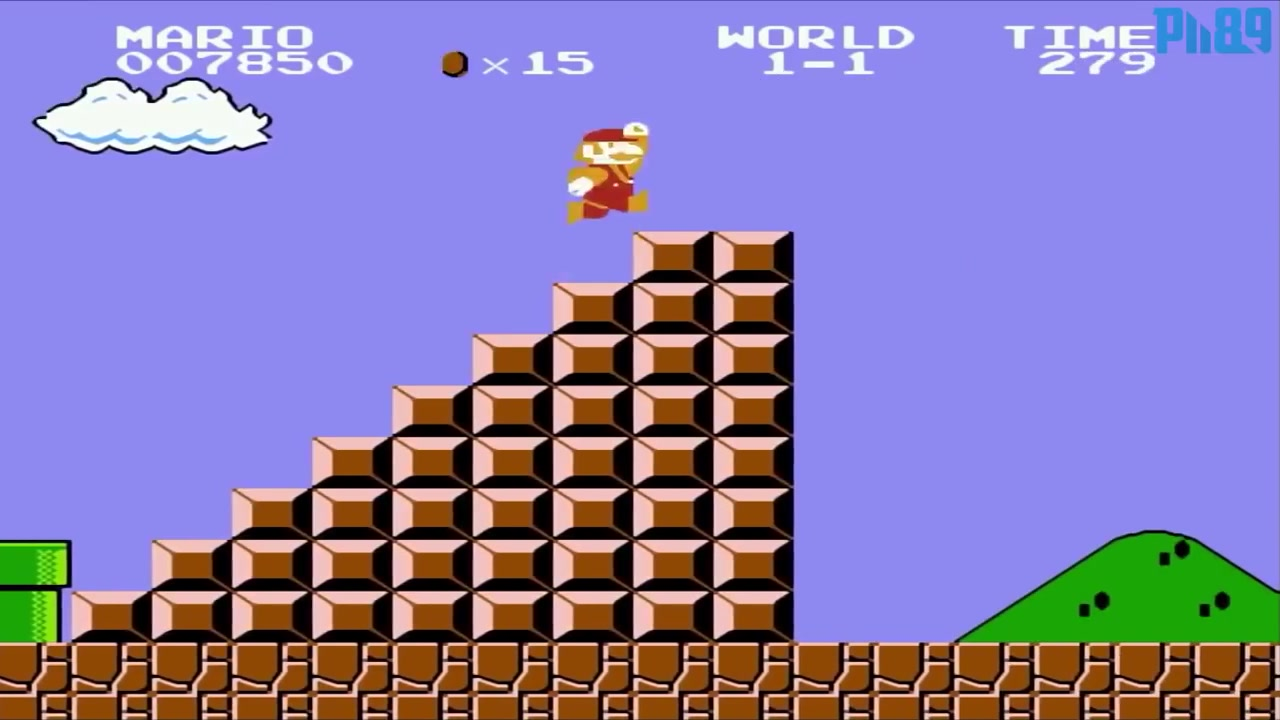mario: (541, 114, 668, 230)
